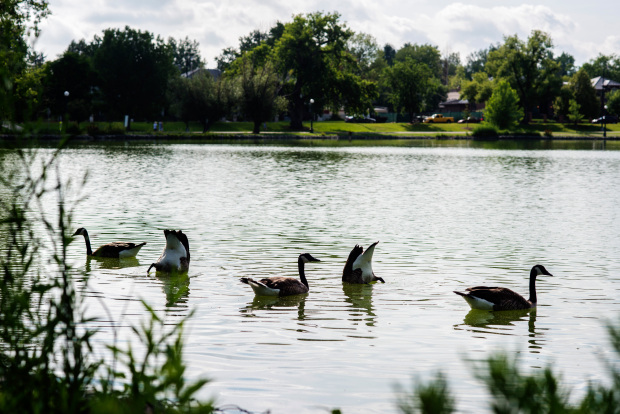goose: (450, 263, 554, 316), (237, 251, 323, 300), (67, 226, 148, 264), (340, 239, 389, 286), (146, 227, 192, 275)
